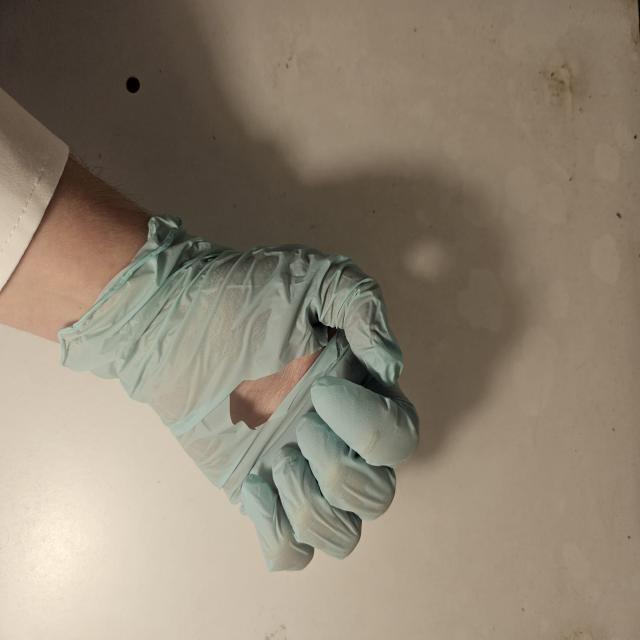gloves_damaged: (54, 212, 423, 572)
